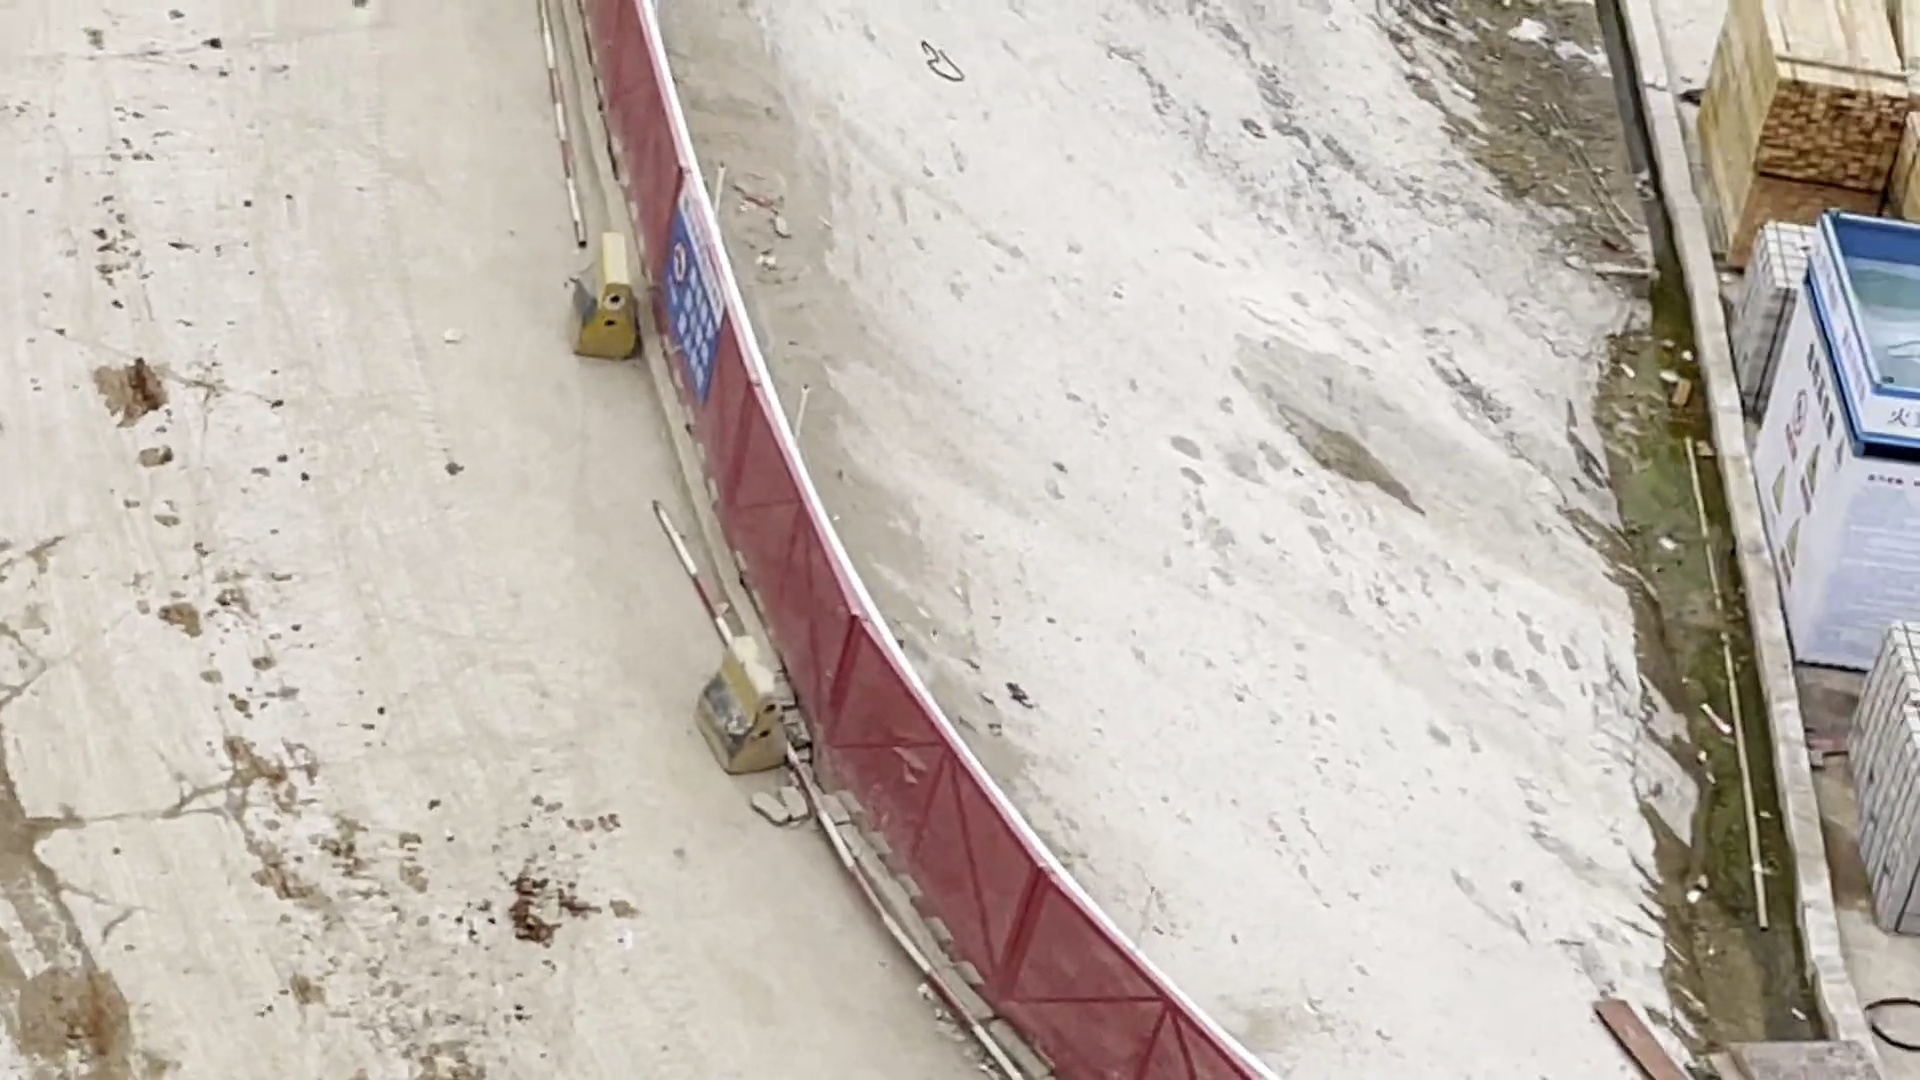brick: (1853, 616, 1920, 938), (1720, 204, 1813, 430)
fence: (717, 307, 1043, 1080), (555, 1, 740, 476), (1031, 872, 1308, 1080)
slogan: (1753, 219, 1865, 624), (651, 195, 754, 407)
wood: (1704, 1, 1920, 237)
